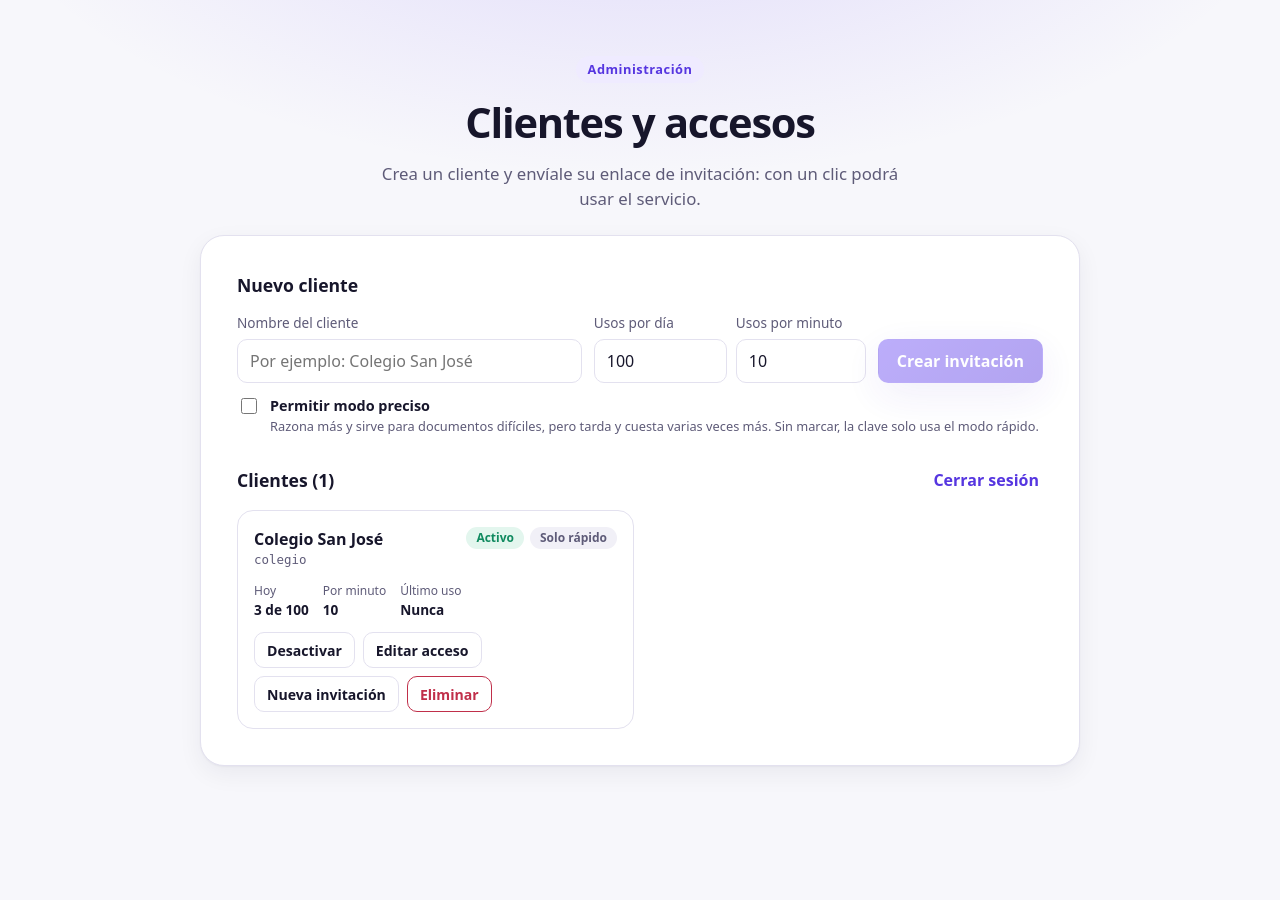
Test: AdminApp › shows each client's modes and lets the administrator change them
Check: the text "Solo rápido" is shown, box left=530, top=527, right=617, bottom=549
Click the button "Editar acceso" at (422, 650), box left=363, top=632, right=482, bottom=668
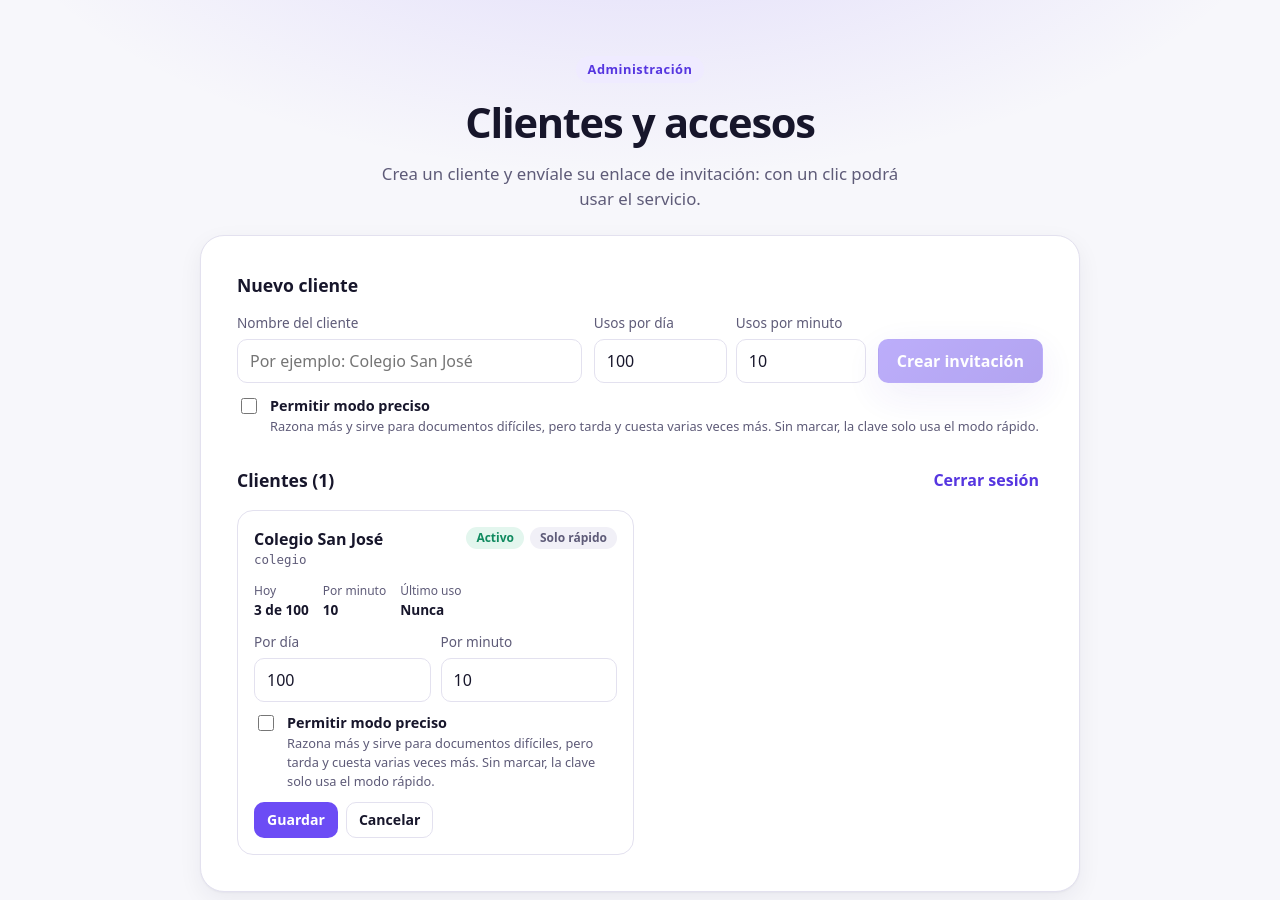
Click the checkbox labelled "Permitir modo preciso" below "Colegio San José" at (266, 724), box left=258, top=716, right=274, bottom=732
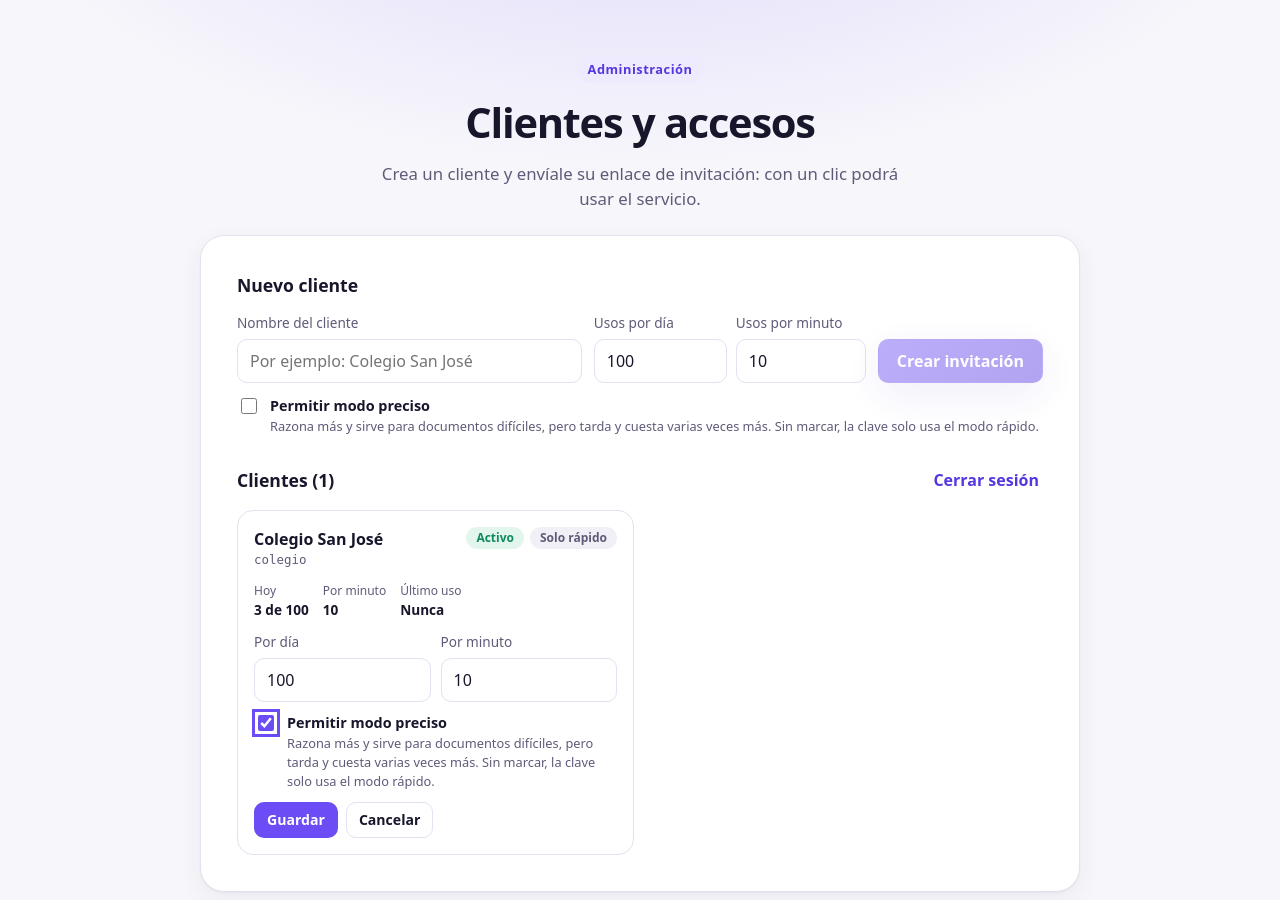
Click the button "Guardar" at (296, 820), box left=254, top=802, right=338, bottom=838
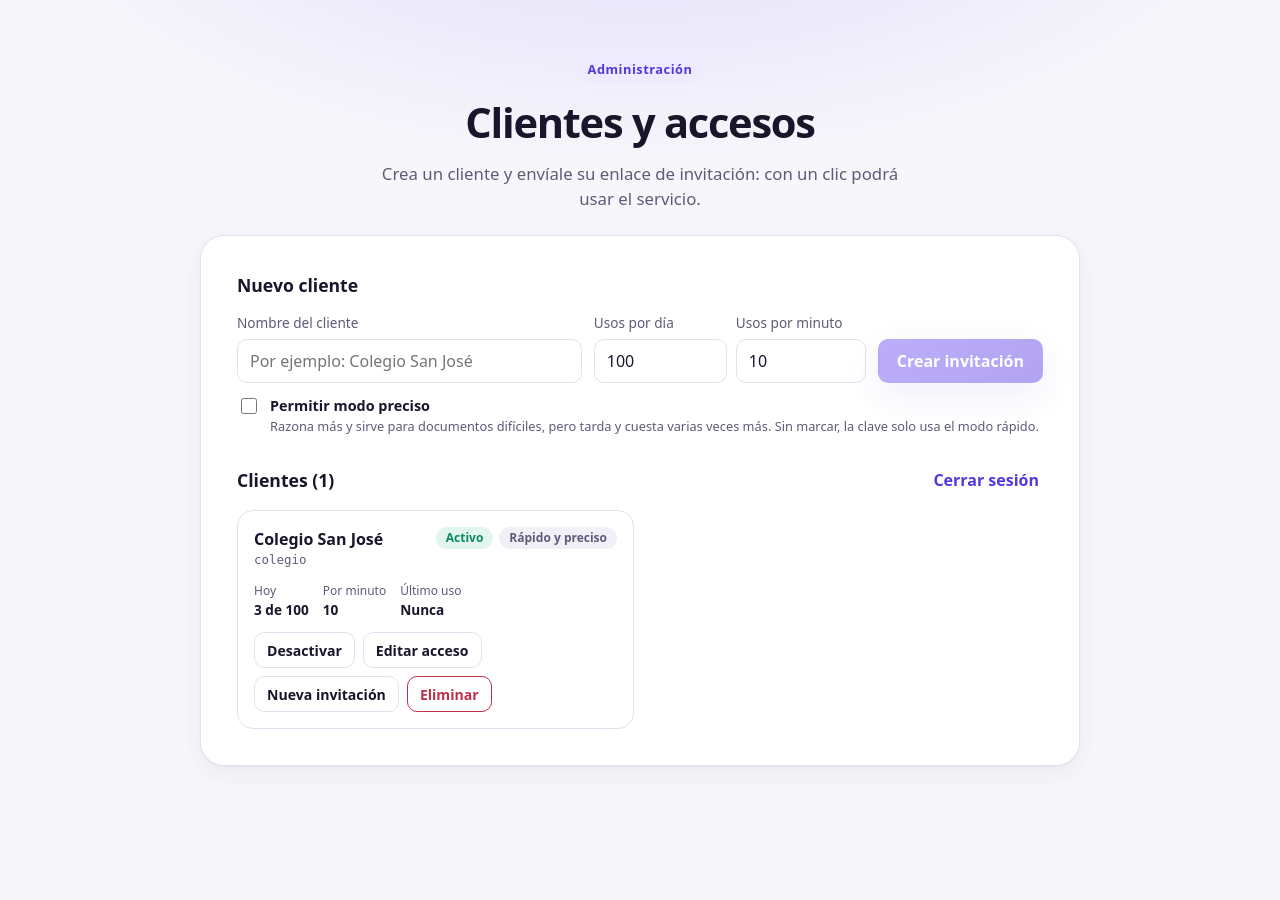
Check: the text "Rápido y preciso" is shown, box left=499, top=527, right=617, bottom=549
